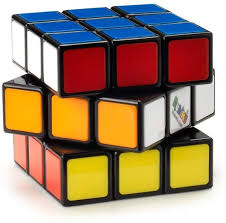cube: (1, 3, 219, 208)
